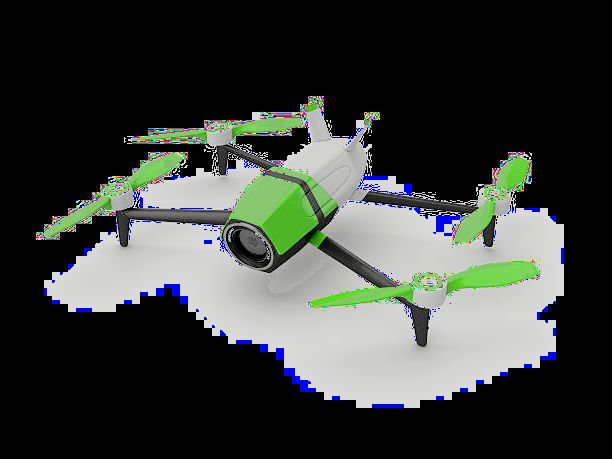Drone: (33, 94, 548, 352)
